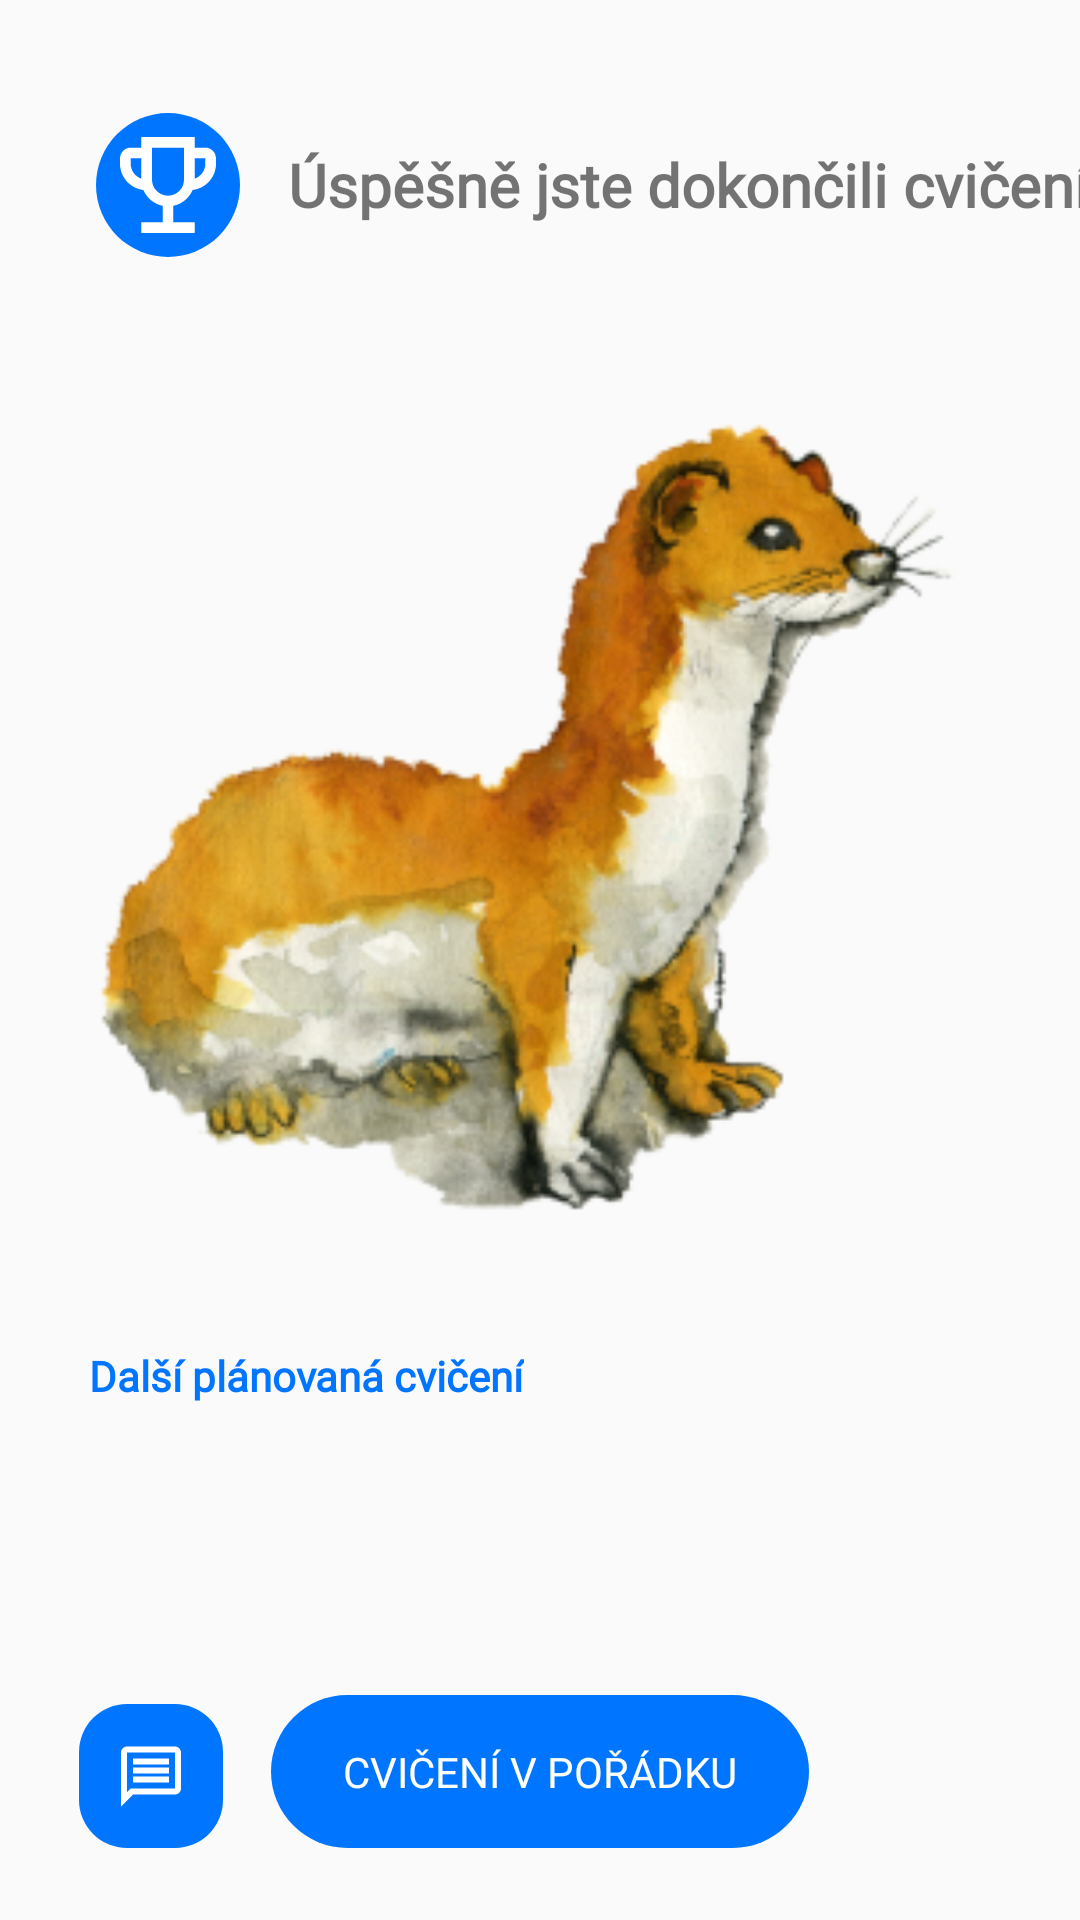

Where to tap for icons on this 1080w x 1920h app screen, as (x,y):
message: (151,1776)
pohar: (168,185)
